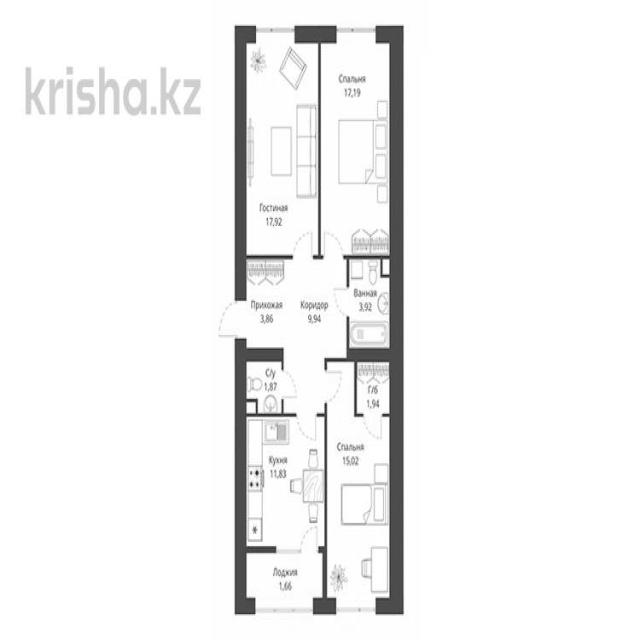balcony: (242, 548, 324, 608)
bathroom: (348, 257, 397, 354), (241, 348, 286, 422)
hallway: (287, 256, 350, 360), (240, 258, 300, 345)
kitchen: (240, 415, 326, 545)
living_room: (318, 29, 400, 257), (242, 35, 323, 257), (328, 410, 392, 606)
other: (356, 356, 395, 414)
